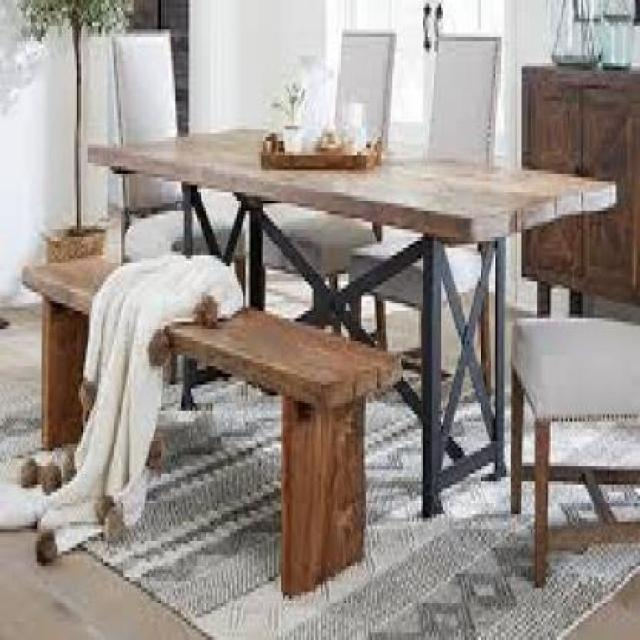tables: (85, 126, 617, 519)
